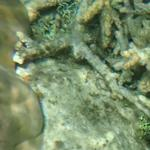dead: (6, 10, 144, 147)
